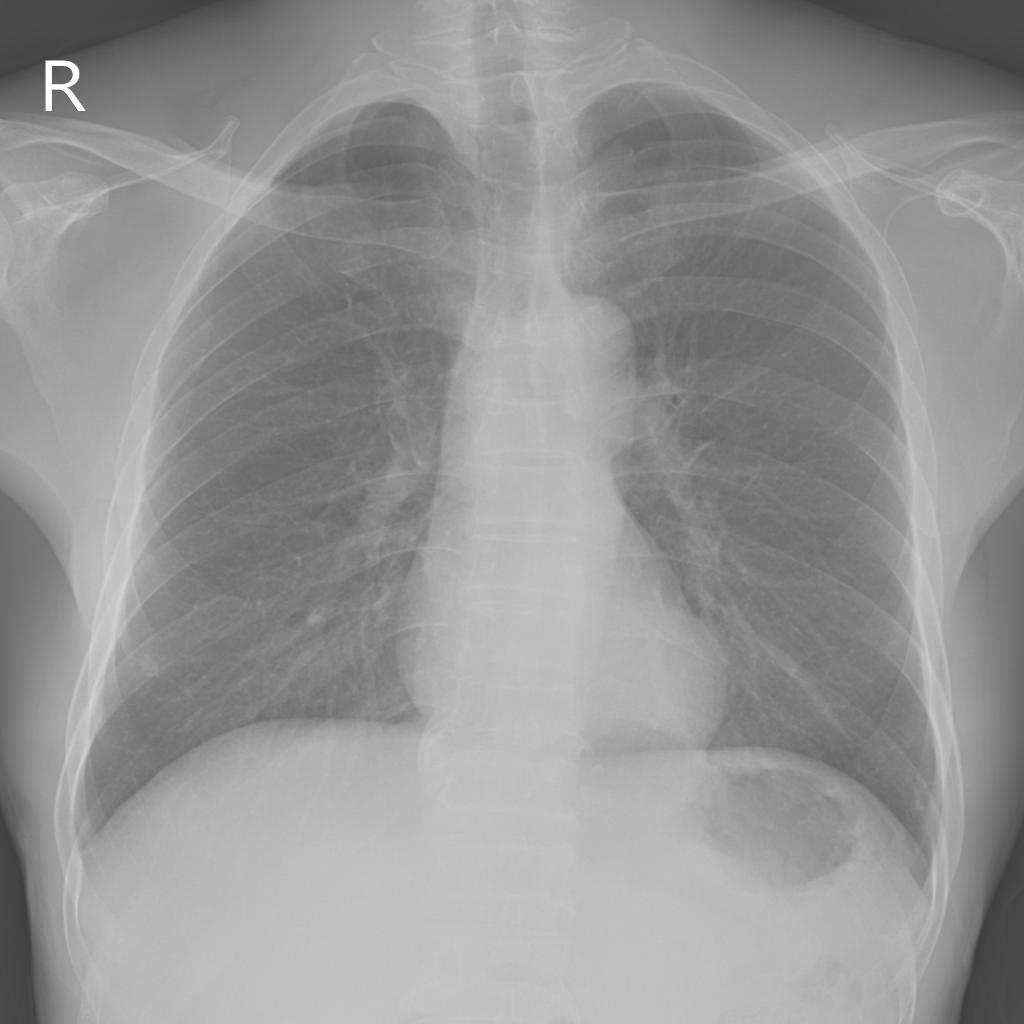Nodule: (137, 654, 158, 680)
